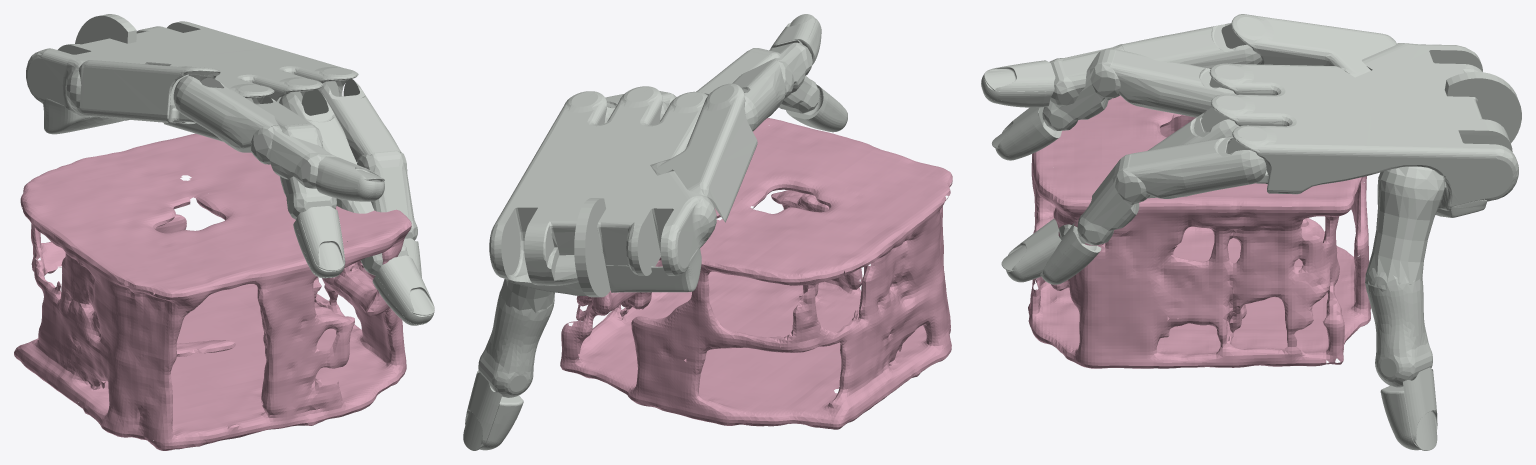
3 views of the same model, side by side, from view 1: azimuth 30°, elevation 25°; view 2: azimuth 150°, elevation 25°; view 3: azimuth 270°, elevation 25° (orthographic). The views are drawn at different scales.
Parts seen in each view (by area): view 1: world, hand_isaac_q; view 2: world, hand_isaac_q; view 3: hand_isaac_q, world.
Boxes of the visible parts, x1,y1,x2,y2 form: world: [14, 133, 411, 450]; hand_isaac_q: [26, 14, 434, 325]; world: [560, 118, 952, 429]; hand_isaac_q: [463, 14, 847, 450]; hand_isaac_q: [981, 14, 1521, 450]; world: [1028, 95, 1370, 368].
Size of the model in its own units: 0.1535 by 0.1471 by 0.2071.
